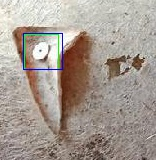text: (24, 34, 58, 69)
